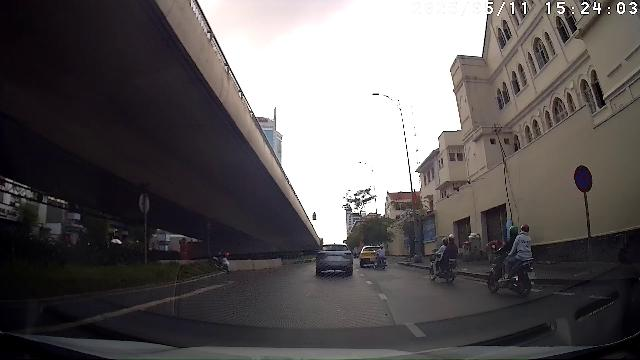130-cam-dung-va-do-xe: (574, 164, 593, 193)
